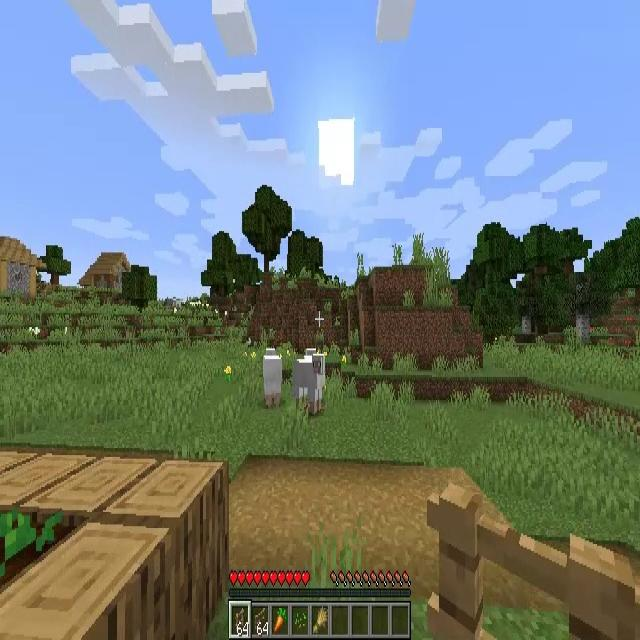flower: (29, 326, 40, 340), (225, 366, 231, 382)
sheep: (296, 353, 325, 413), (264, 348, 281, 406)
